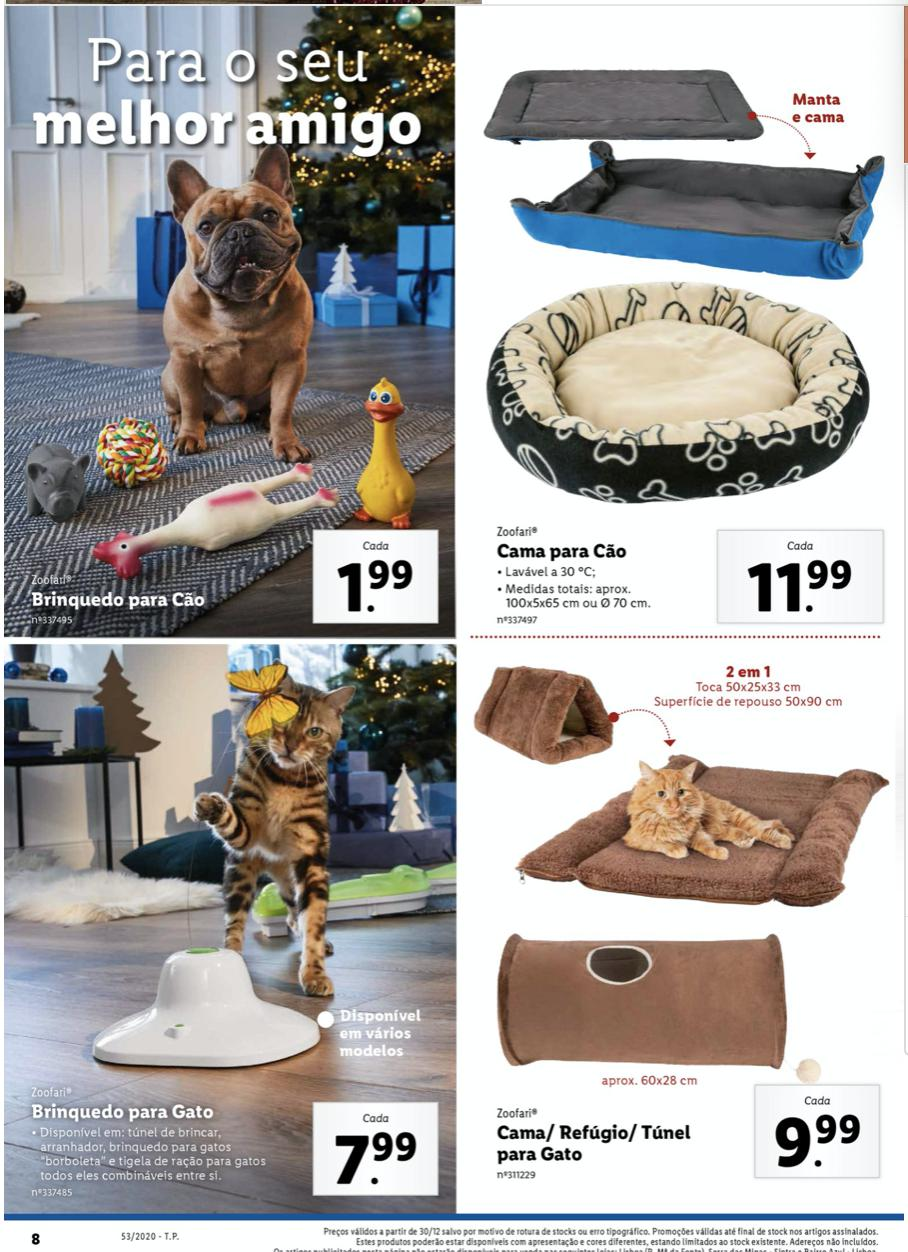name: (493, 1120, 694, 1167), (29, 587, 211, 617), (30, 1100, 221, 1127), (485, 537, 632, 562)
price: (746, 555, 858, 619), (768, 1109, 868, 1173), (332, 552, 421, 617), (332, 1128, 421, 1187)
product: (463, 12, 897, 630), (21, 658, 452, 1208), (480, 653, 894, 1208), (19, 169, 450, 636)
